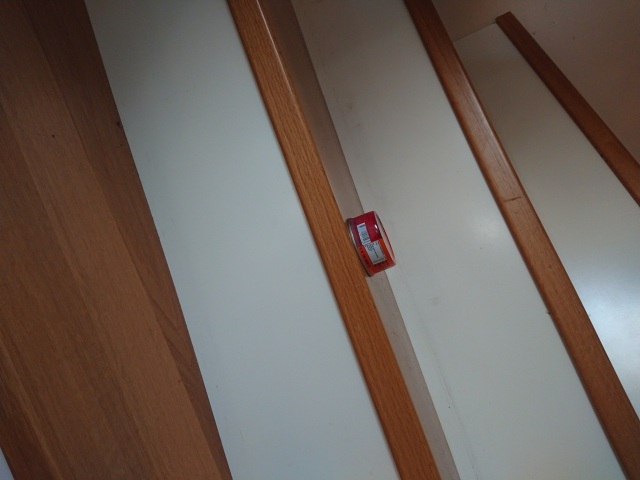Gavrilovic Pork Liver Pate 100g: (343, 209, 398, 278)
